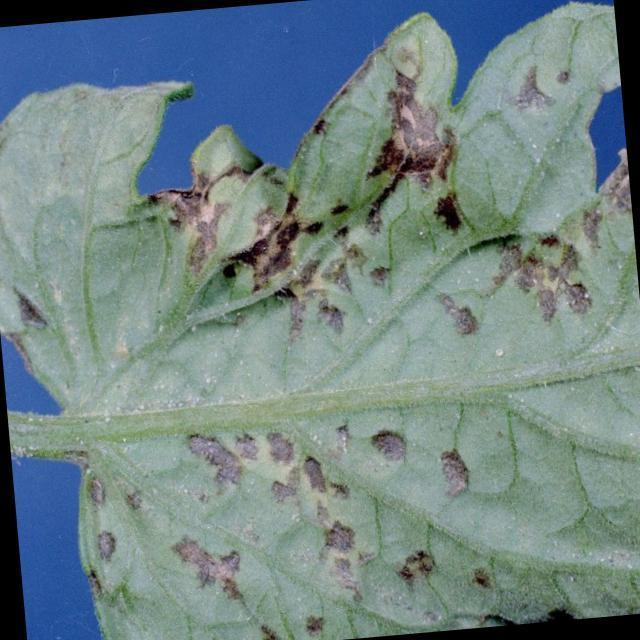Bacterial Spot: (81, 400, 556, 640), (153, 152, 636, 368), (364, 46, 582, 169)
